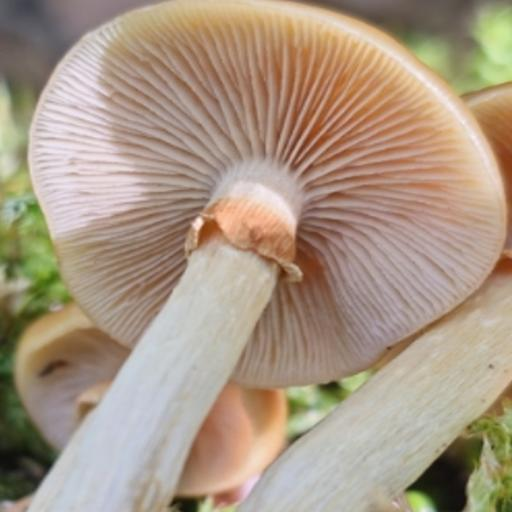mushroom: (17, 1, 512, 454)
